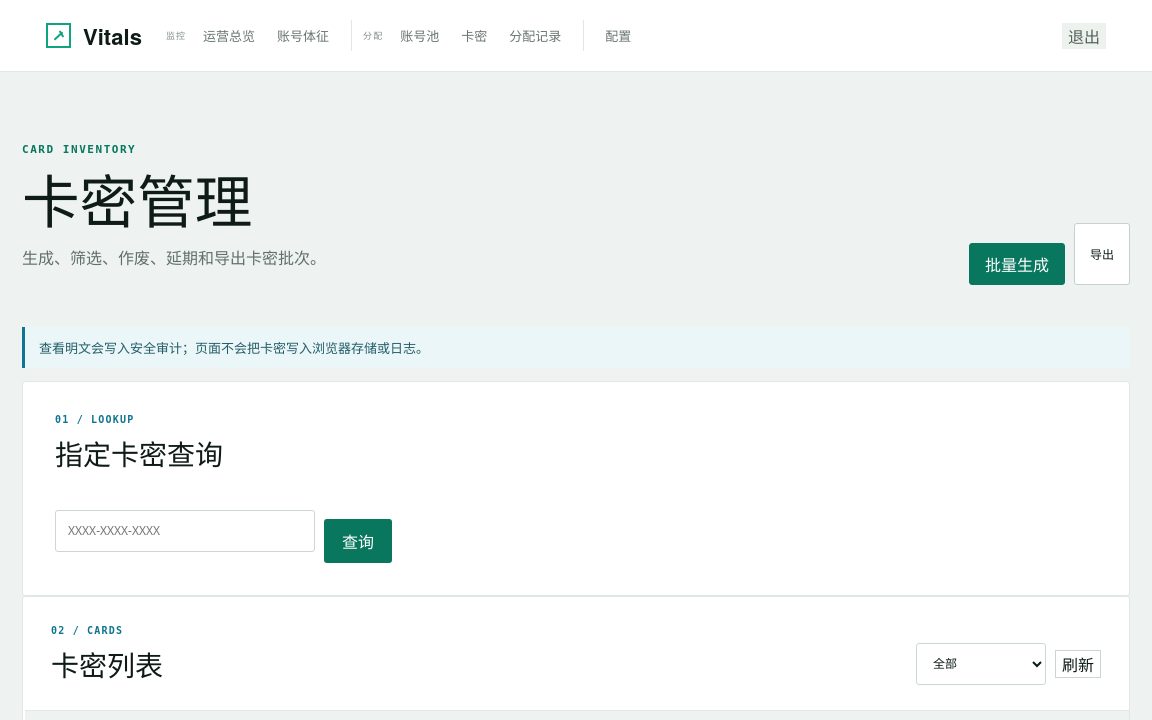
Test case: P2 admin views › generates cards and keeps one-time plaintext visible only in generated panel
This screenshot has width=1152, height=720.
Click the button with class "compact-action" showing "批量生成" at [1017, 264], box [969, 243, 1065, 285]
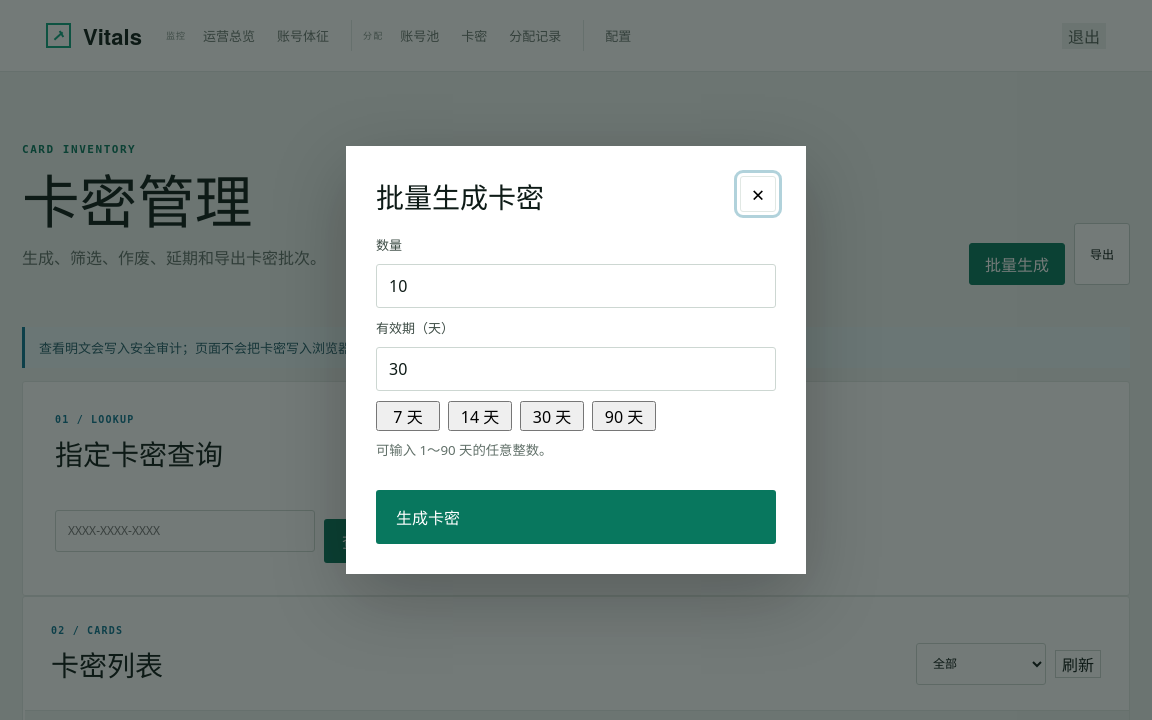
Replace the text in the number field labelled "数量" with "1" at [576, 286], box [376, 264, 776, 308]
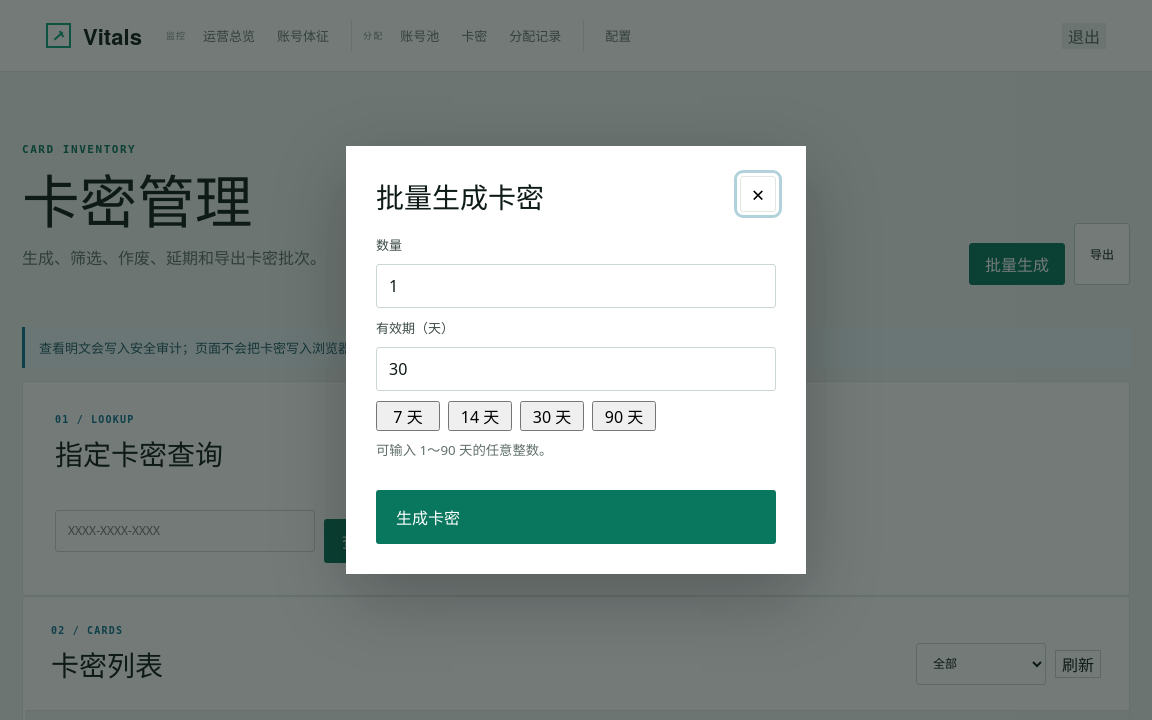
Replace the text in the number field with id "duration" with "90" at [576, 368], box [376, 346, 776, 390]
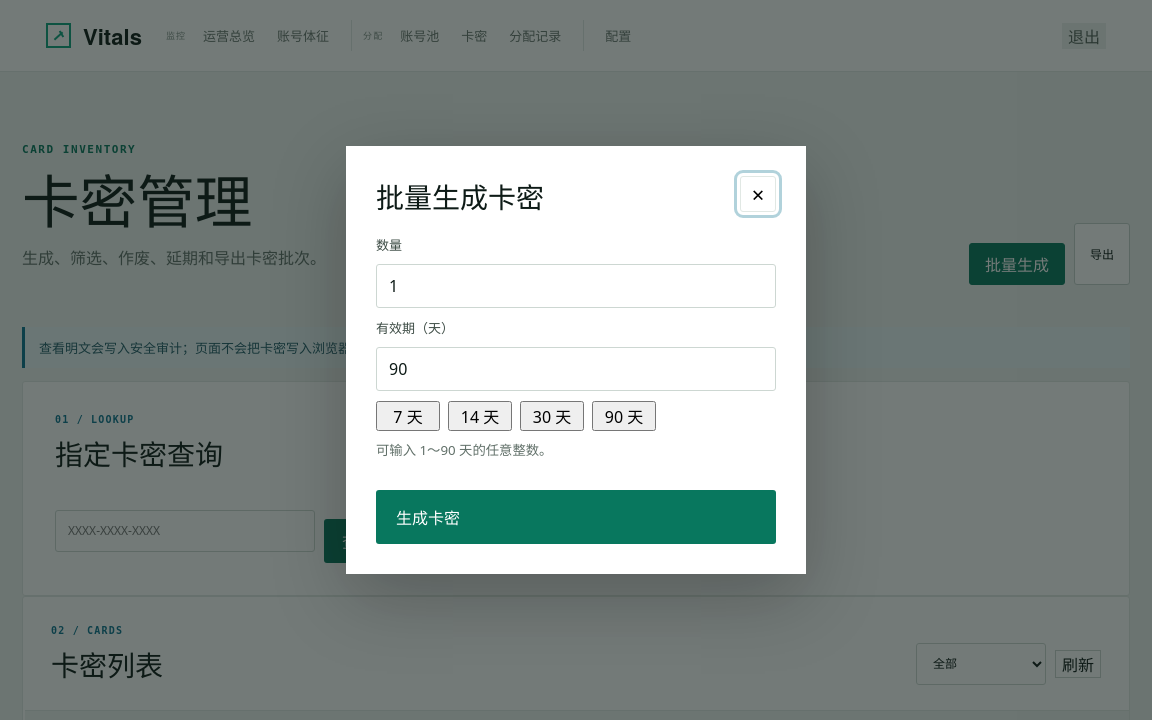
Submit the form with class "modal-form", box [376, 234, 776, 544]
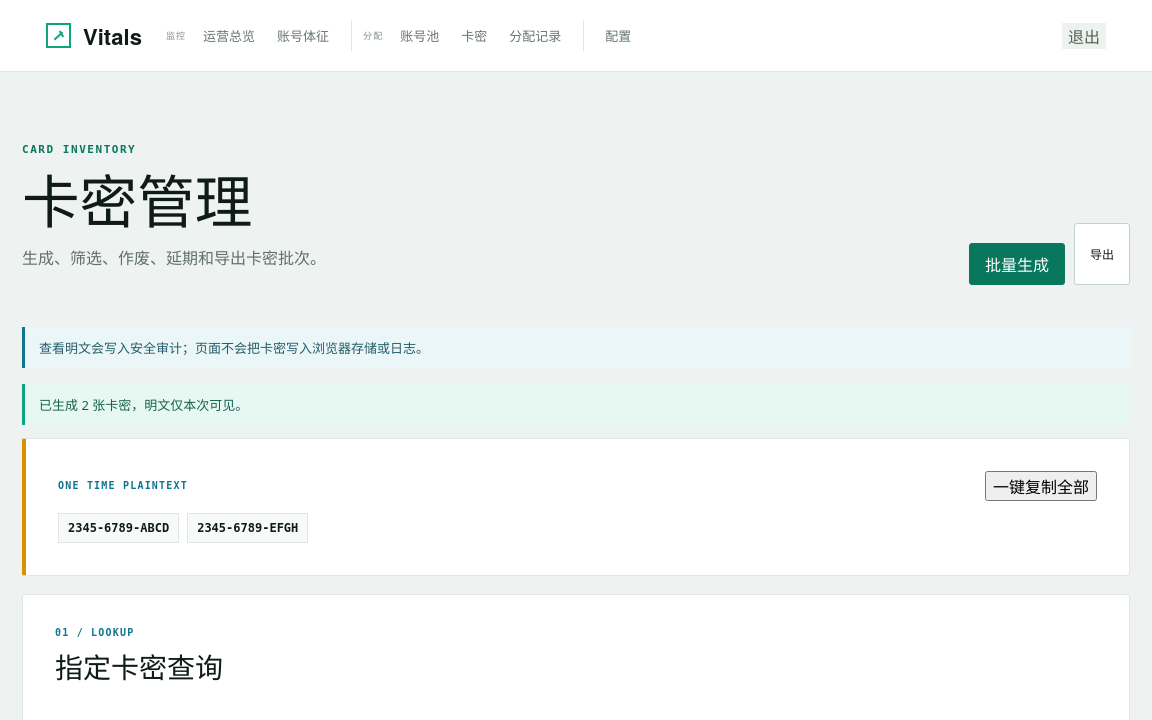
Expected: the text "2345-6789-ABCD" is shown, [58, 513, 179, 543]
Click the button "一键复制全部" at [1041, 486], box [985, 471, 1097, 501]
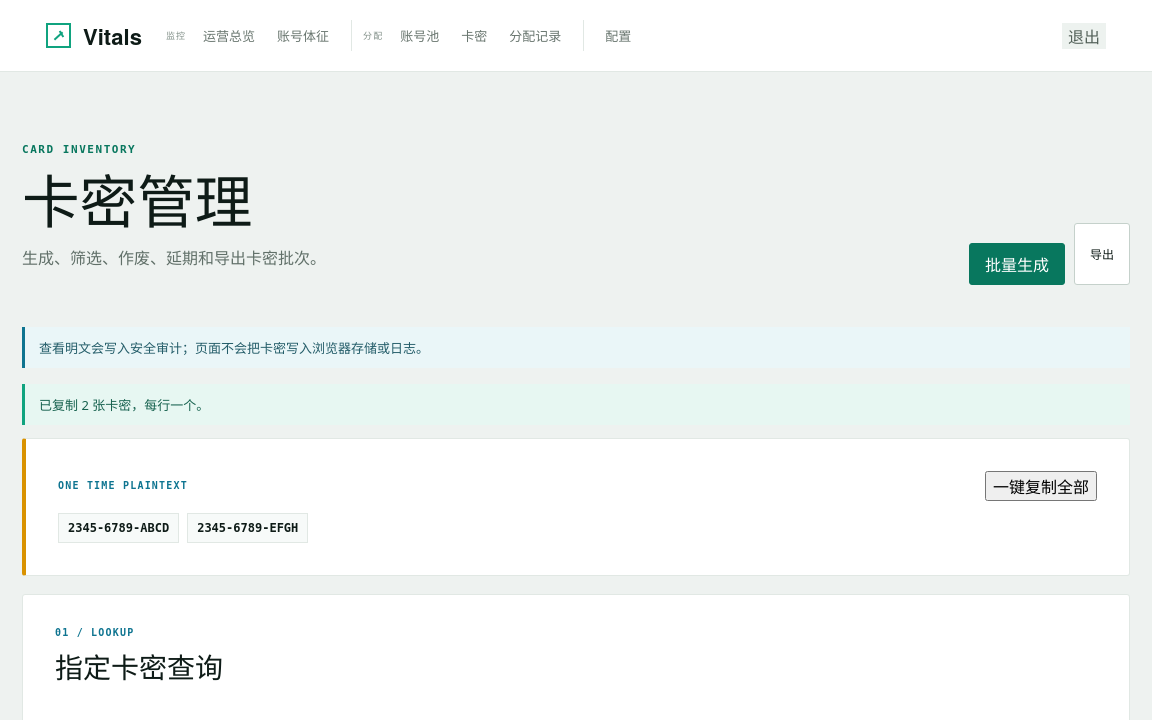
Expected: the text "已复制 2 张卡密，每行一个。" is shown, [22, 384, 1130, 425]
